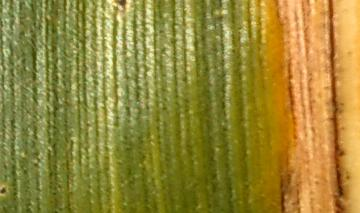tarspot: (113, 1, 128, 10), (1, 186, 7, 195)
